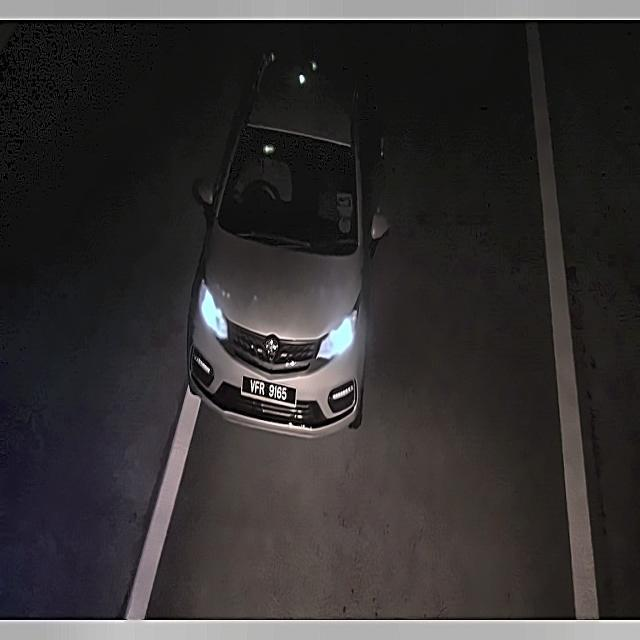car: (242, 371, 292, 411)
